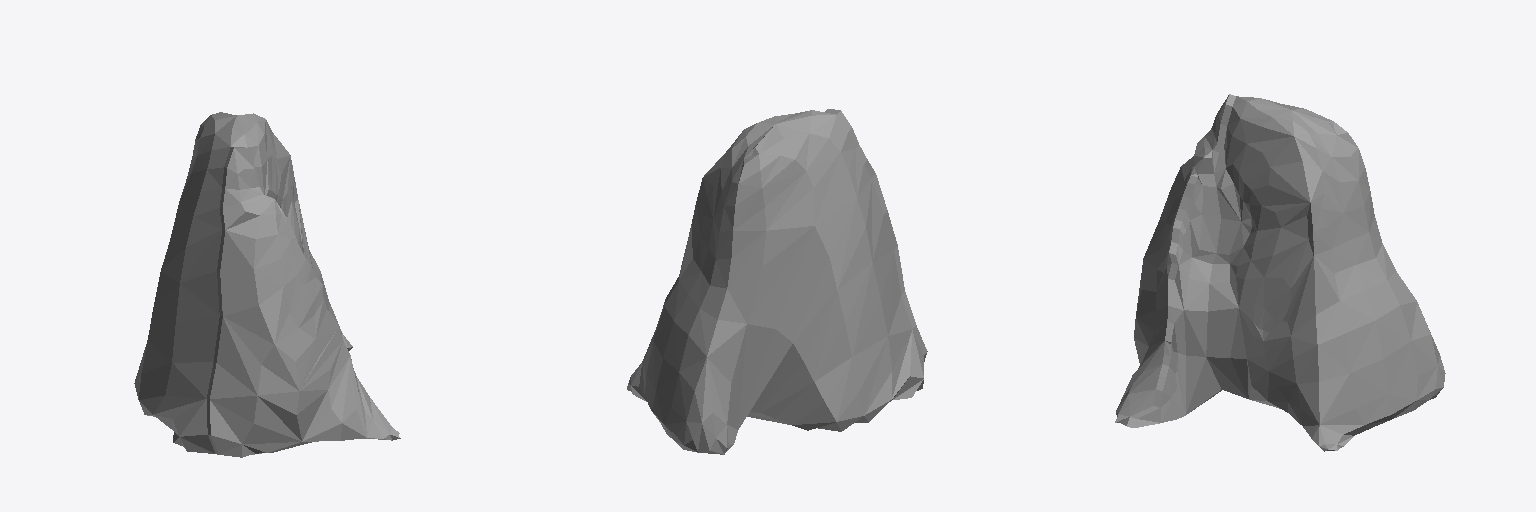
Rendered from stonewall.obj.
3 views of the same model, side by side, from view 1: azimuth 30°, elevation 25°; view 2: azimuth 150°, elevation 25°; view 3: azimuth 270°, elevation 25° (orthographic).
Visible parts, largest first — view 1: Plane_Plane; view 2: Plane_Plane; view 3: Plane_Plane.
Boxes of the visible parts, x1=… form: Plane_Plane: x1=134, y1=112, x2=400, y2=457; Plane_Plane: x1=627, y1=109, x2=927, y2=454; Plane_Plane: x1=1115, y1=94, x2=1445, y2=451.
Bounding box in the file's own units: 166 × 193 × 205.